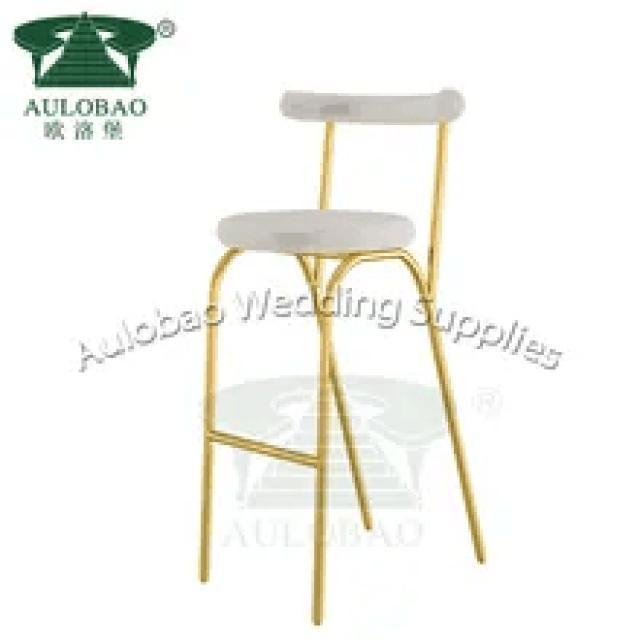chair: (192, 83, 493, 627), (216, 87, 468, 256)
